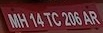character: (7, 13, 21, 28), (16, 12, 29, 27), (87, 9, 100, 24), (42, 11, 53, 26), (82, 9, 92, 25), (51, 11, 61, 26), (61, 11, 71, 26), (35, 11, 44, 27), (28, 12, 37, 27), (67, 11, 76, 25), (73, 11, 82, 25)
